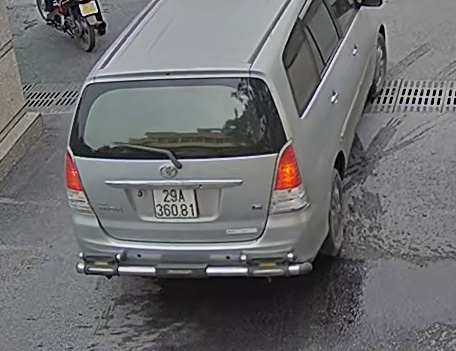vehicle plate: (150, 184, 201, 220)
